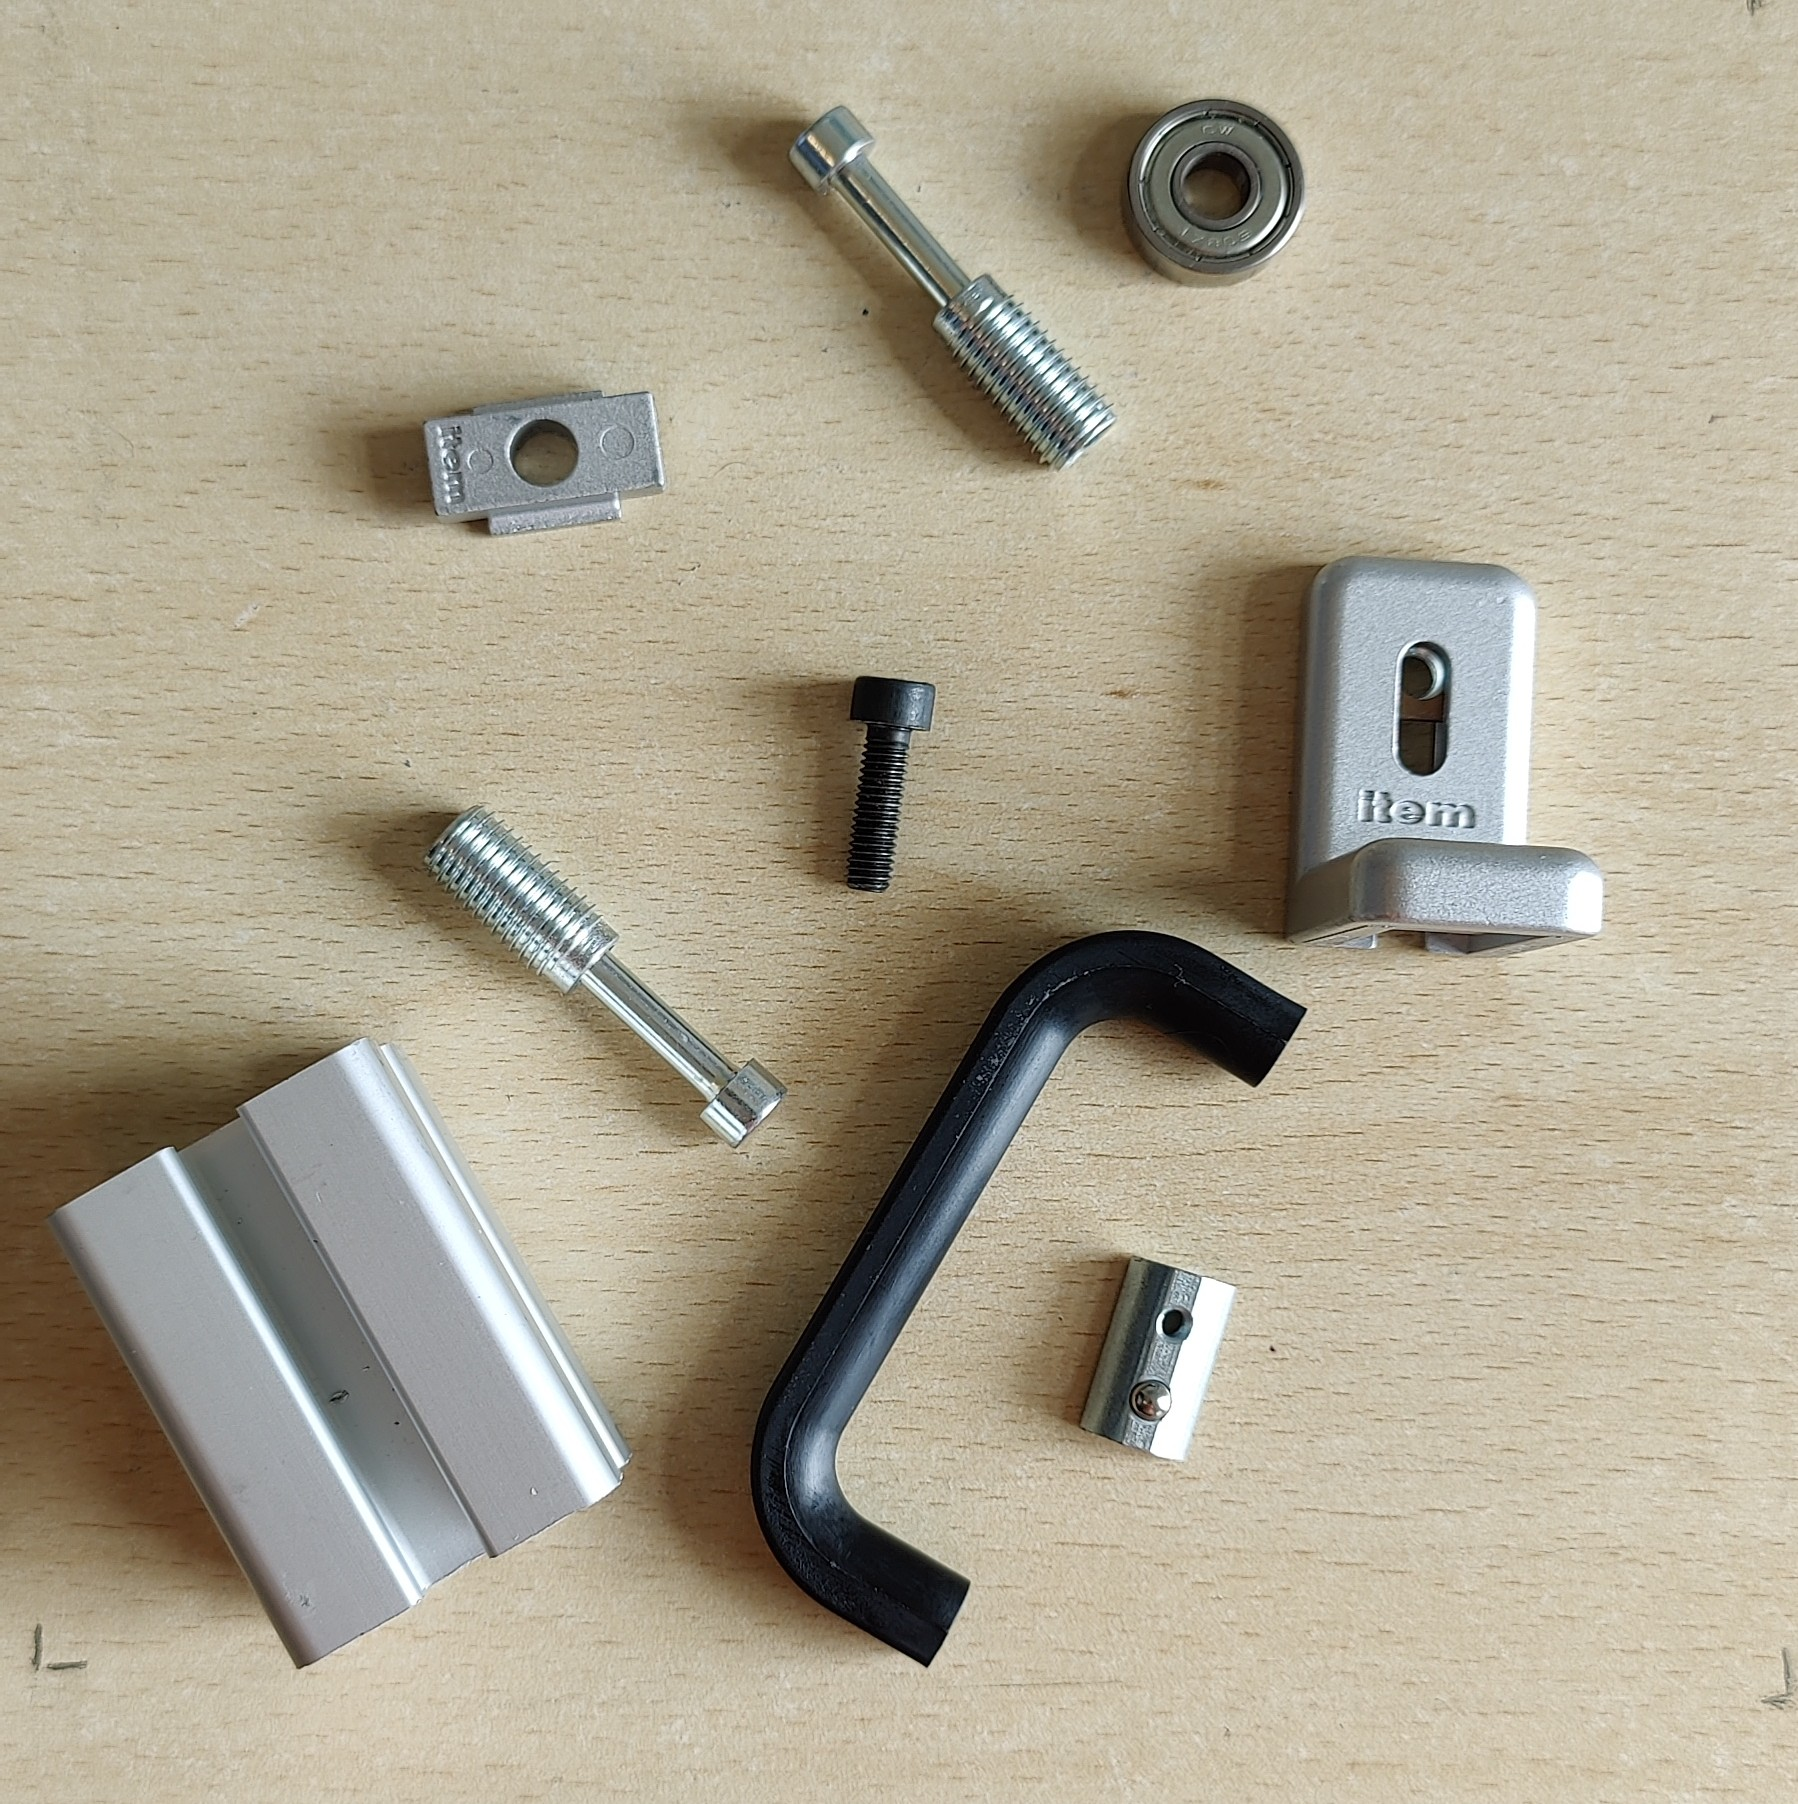Aluminium Extension: (44, 1030, 631, 1676)
Ball Bearing: (1118, 97, 1304, 290)
Multiwinkel: (1284, 556, 1605, 961)
Pull Handle: (748, 927, 1311, 1671)
Shoulder Socket Head Cap Screw: (422, 800, 790, 1151), (784, 104, 1120, 477)
Socket Head Cap Screw: (845, 673, 939, 897)
T Nut Square: (422, 380, 672, 540)
T Spring Nut: (1075, 1253, 1238, 1463)
